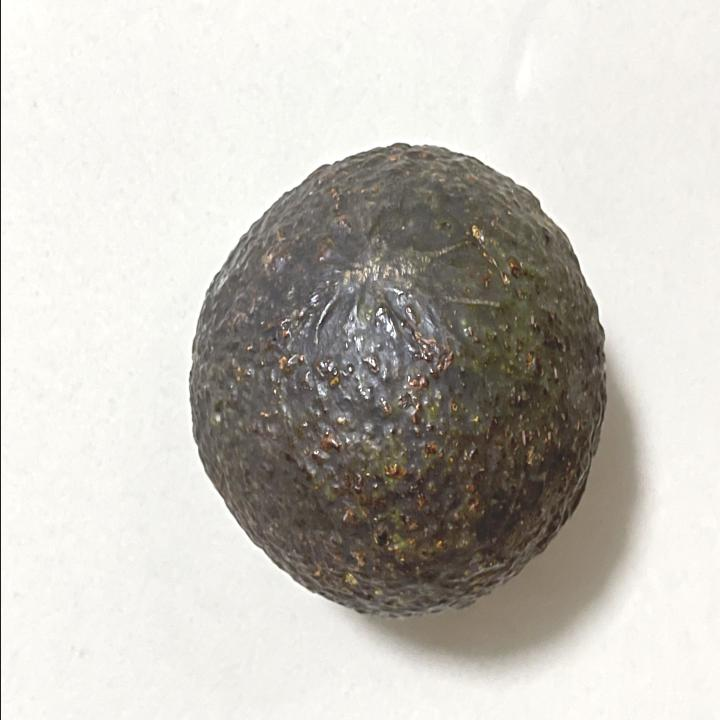Level1: (174, 131, 618, 624)
